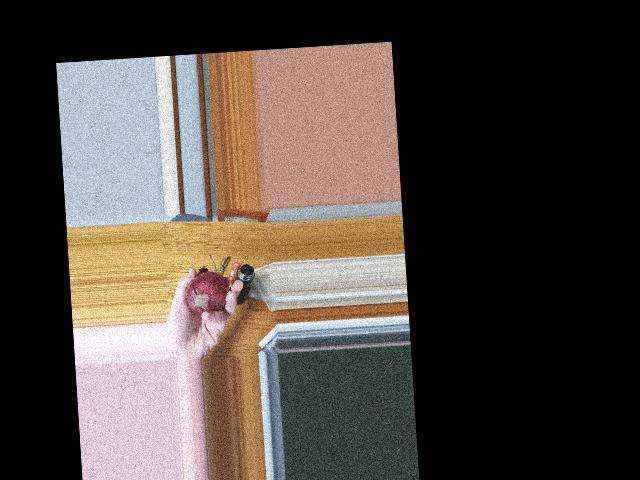onion: (183, 274, 230, 316)
